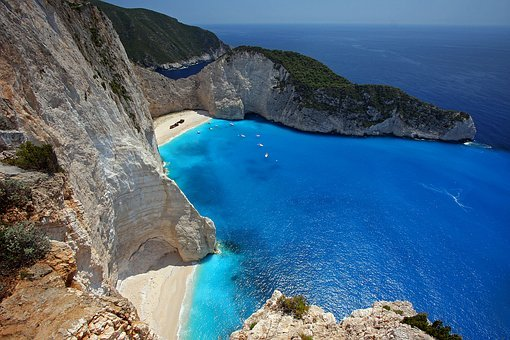mountain: (2, 1, 154, 339), (187, 45, 475, 141)
sea: (146, 16, 507, 339)
